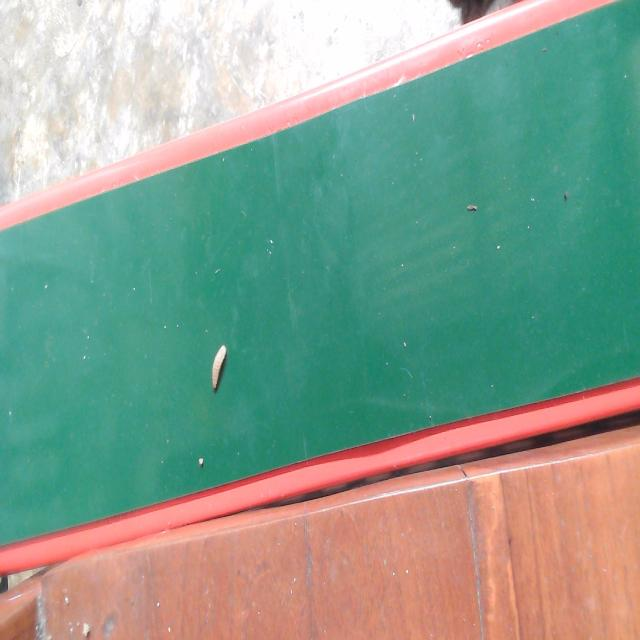Maggot: (208, 348, 228, 392)
